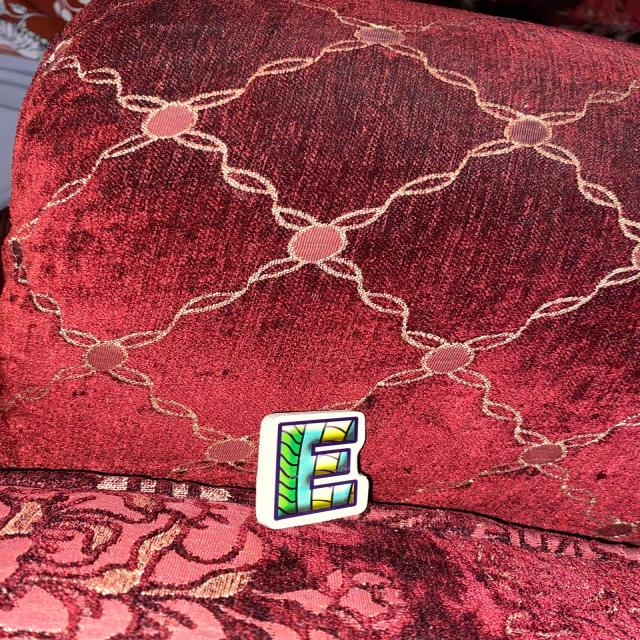E: (256, 411, 369, 529)
